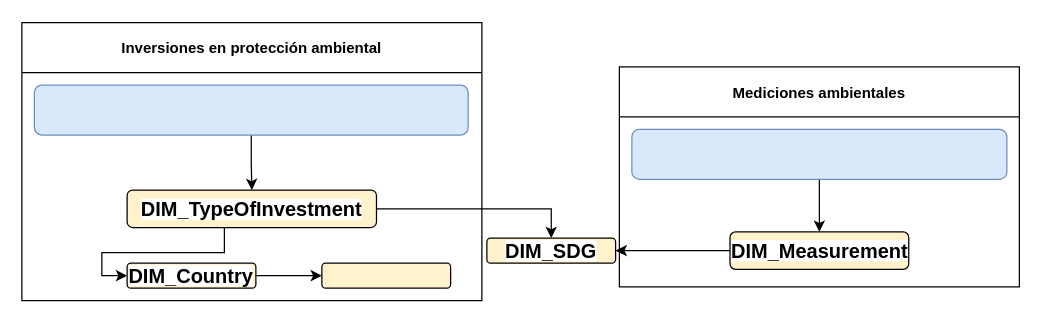
The diagram is 1041 pixels wide and 323 high, and some of its shapes have lost their labels. Each missing label, with the centre of its shape:
DIM_Tiempo: the point at 386,275
FACT _ EnvironmentalMeasurements: the point at 819,153
FACT _ ProtectionEnvironmentalInvestments: the point at 250,109
